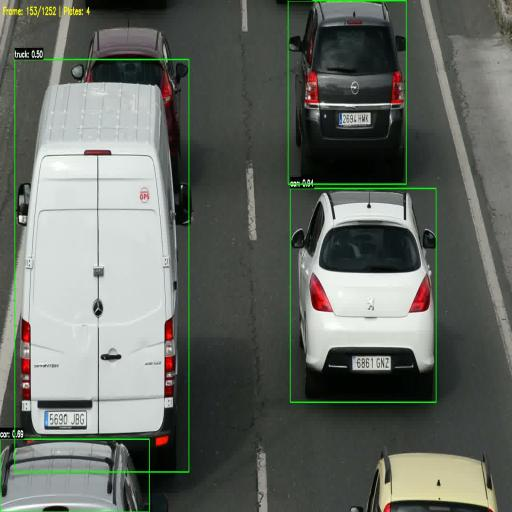license-plate: (352, 353, 394, 372), (44, 411, 87, 429), (341, 110, 370, 127)
